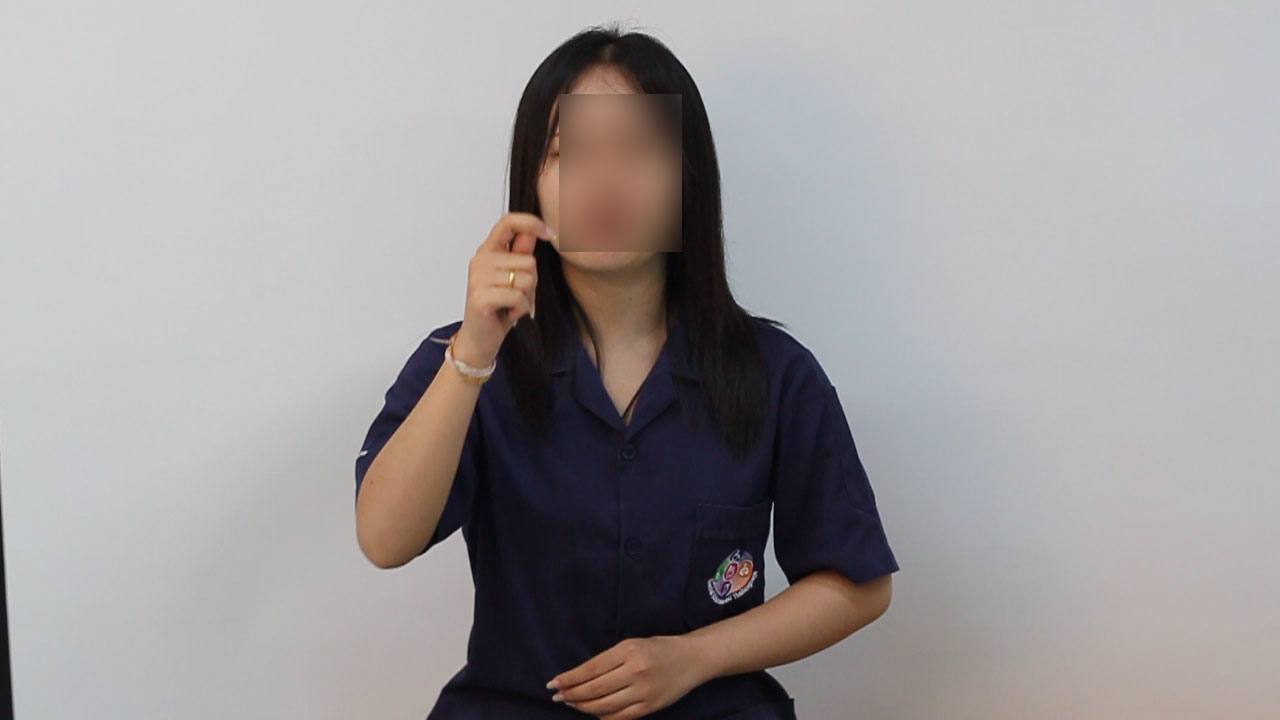or: (460, 207, 564, 366)
